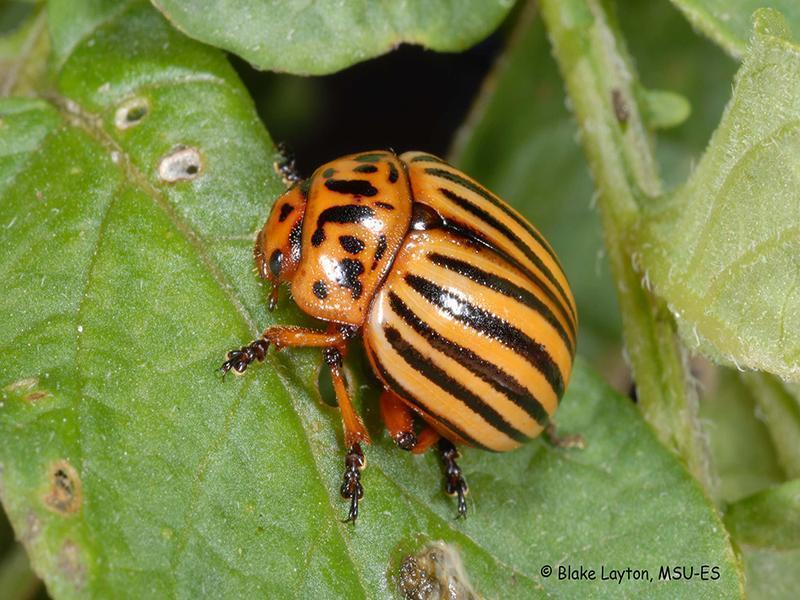hrosc: (219, 140, 573, 475)
